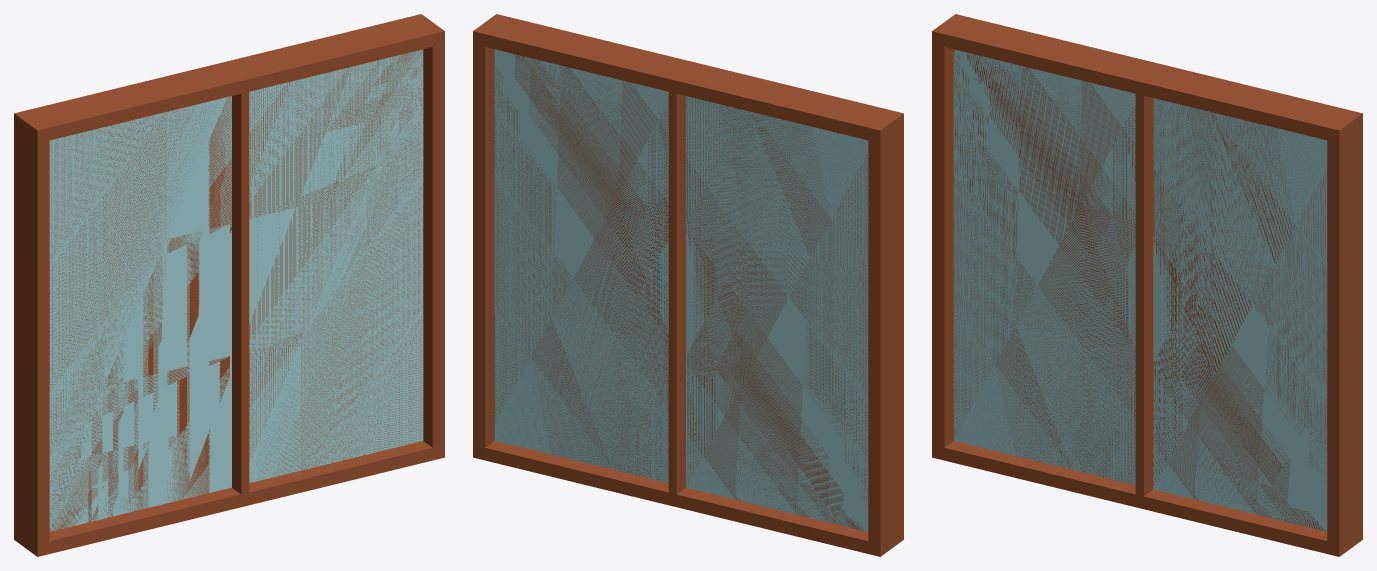
File: wall_window_8.fbx
The picture shows the model from 3 angles, left to right: view 1: azimuth 30°, elevation 25°; view 2: azimuth 150°, elevation 25°; view 3: azimuth 330°, elevation 25°; orthographic projection.
Visible parts, largest first — view 1: Mesh1_Group1 wall_9_1 Model, Mesh2_Group2 wall_9_1 Model, Mesh3_wall_9_1 Model; view 2: Mesh1_Group1 wall_9_1 Model, Mesh2_Group2 wall_9_1 Model, Mesh3_wall_9_1 Model; view 3: Mesh1_Group1 wall_9_1 Model, Mesh2_Group2 wall_9_1 Model, Mesh3_wall_9_1 Model.
Part boxes in pixels (left/top/right/bottom): Mesh1_Group1 wall_9_1 Model: left=49, top=96, right=231, bottom=531; Mesh2_Group2 wall_9_1 Model: left=249, top=49, right=423, bottom=483; Mesh3_wall_9_1 Model: left=14, top=14, right=444, bottom=556; Mesh1_Group1 wall_9_1 Model: left=686, top=96, right=868, bottom=531; Mesh2_Group2 wall_9_1 Model: left=494, top=49, right=668, bottom=483; Mesh3_wall_9_1 Model: left=473, top=14, right=903, bottom=556; Mesh1_Group1 wall_9_1 Model: left=953, top=49, right=1135, bottom=485; Mesh2_Group2 wall_9_1 Model: left=1153, top=98, right=1327, bottom=531; Mesh3_wall_9_1 Model: left=932, top=14, right=1362, bottom=556.
Size of the model in its own units: 1 by 1 by 0.1.
